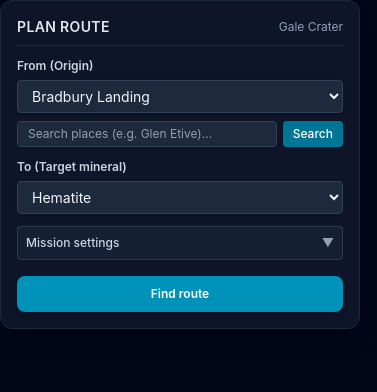
RoutePanel › shows error detail for 400 (failure - 400)
Click the button "Find route".
click(180, 294)  # box x1=17 y1=276 x2=343 y2=312
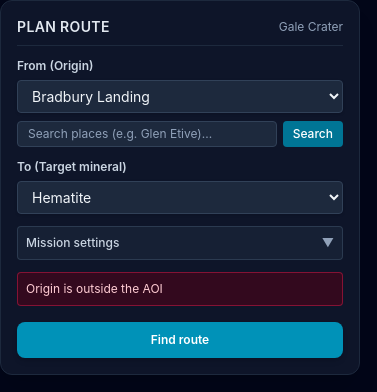
Result: the message reads "Origin is outside the AOI" at x1=26 y1=281 x2=163 y2=296
